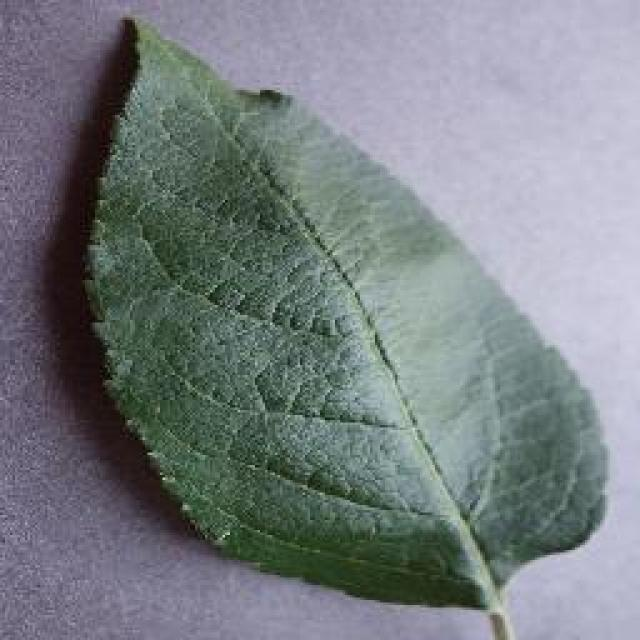apple healthy: (78, 10, 610, 635)
